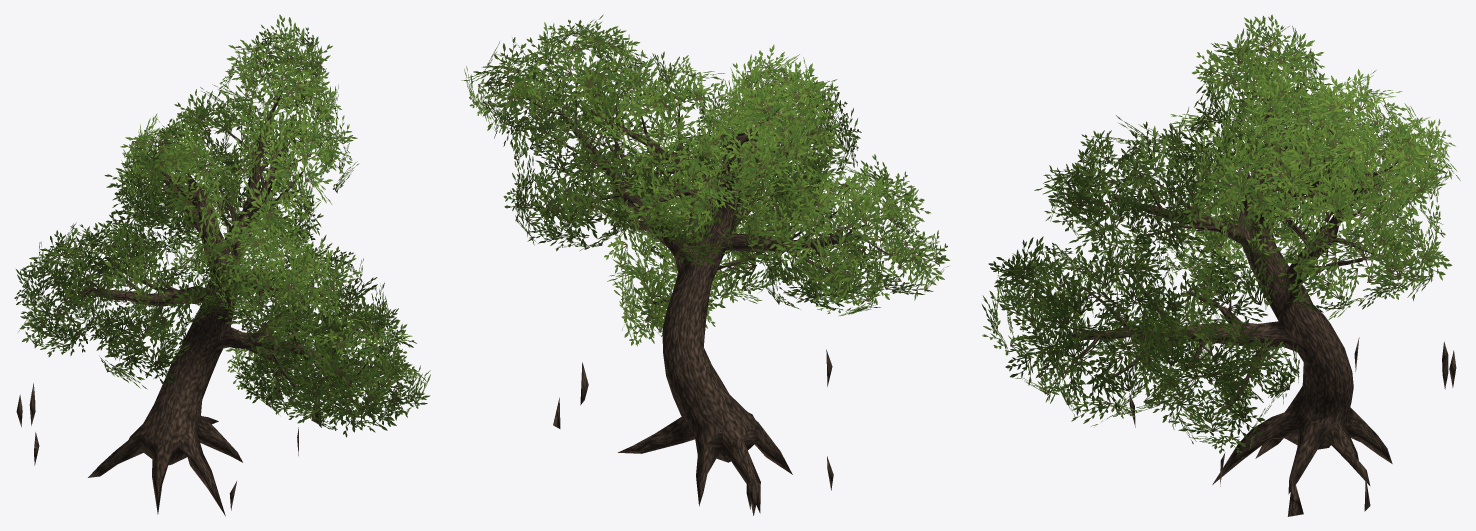
Rendered from Oak_04.lod1.glb.
3 views of the same model, side by side, from view 1: azimuth 30°, elevation 25°; view 2: azimuth 150°, elevation 25°; view 3: azimuth 270°, elevation 25° (orthographic). The views are drawn at different scales.
Visible parts, largest first — view 1: Leaves, Trunk; view 2: Leaves, Trunk; view 3: Leaves, Trunk.
Boxes of the visible parts, x1,y1,x2,y2 form: Leaves: (14,14,430,437); Trunk: (16,72,400,516); Leaves: (461,14,949,346); Trunk: (518,60,900,515); Leaves: (982,14,1460,453); Trunk: (1030,70,1456,516).
Bounding box in the file's own units: 12.51 × 13.06 × 11.99.
2 materials, 2 textured.
